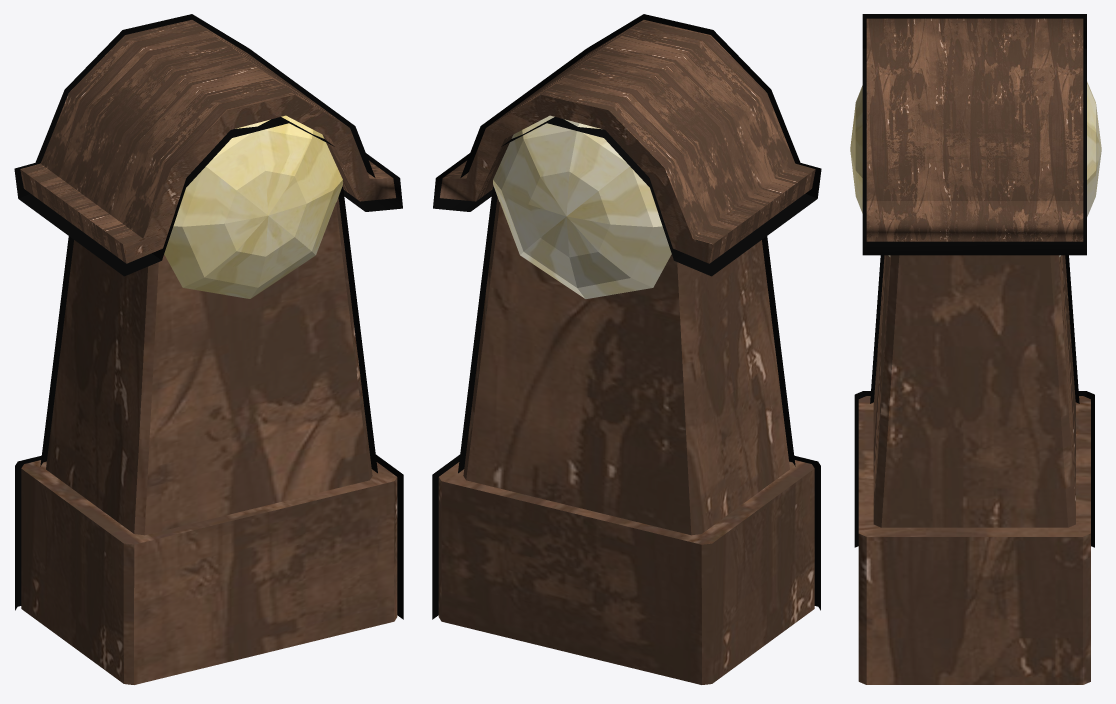
The model's file is entity214480.gltf.
3 views of the same model, side by side, from view 1: azimuth 30°, elevation 25°; view 2: azimuth 150°, elevation 25°; view 3: azimuth 270°, elevation 25° (orthographic). The views are drawn at different scales.
Parts seen in each view (by area): view 1: node_Fence_01_Post; view 2: node_Fence_01_Post; view 3: node_Fence_01_Post.
Part boxes in pixels (left/top/right/bottom): node_Fence_01_Post: left=14, top=14, right=403, bottom=684; node_Fence_01_Post: left=432, top=14, right=821, bottom=684; node_Fence_01_Post: left=850, top=14, right=1101, bottom=684.
Size of what is drawn, in the model's own units: 0.7262 by 1.36 by 0.5293.
